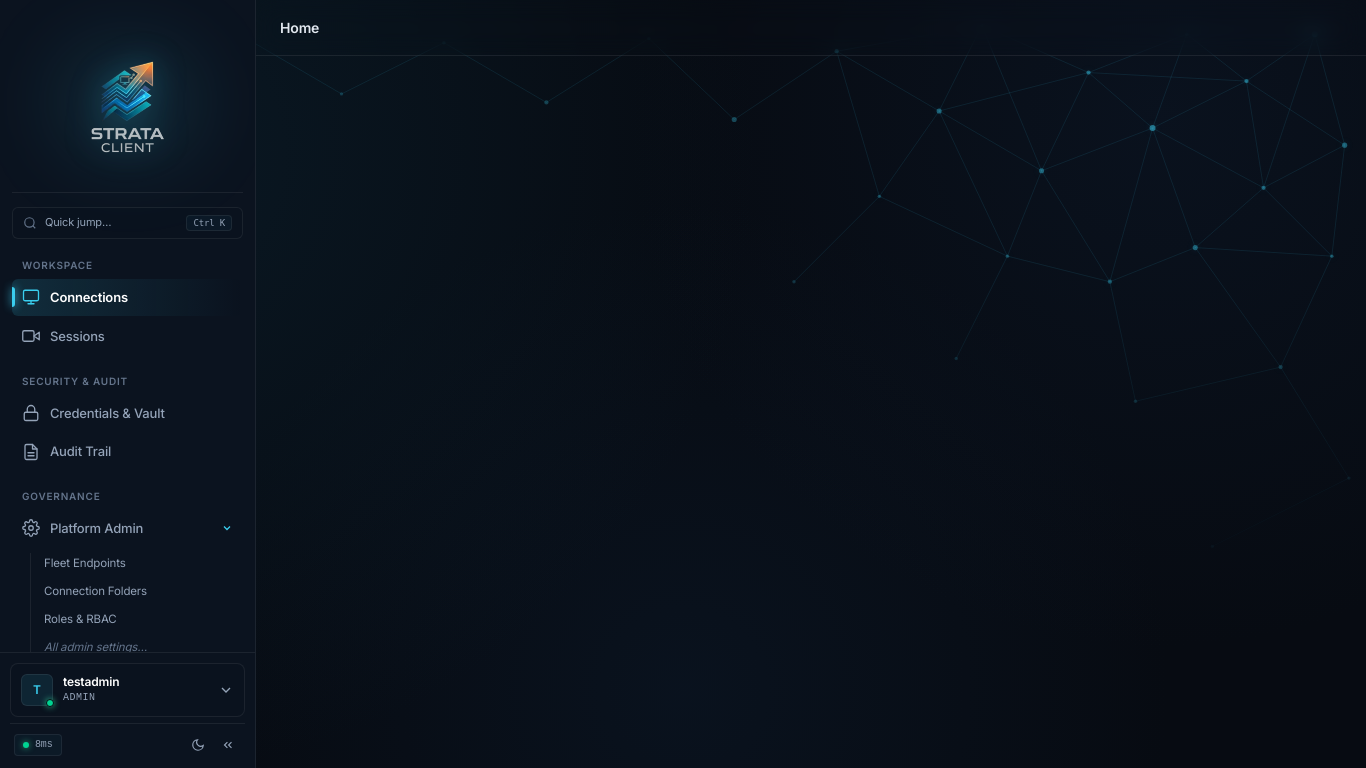
Test: Layout › collapses sidebar when collapse button is clicked
What coordinates should you click on to do the following:
click the button titled "Collapse sidebar"
I would click on:
 (228, 745)
Its box is [215,732,241,758].
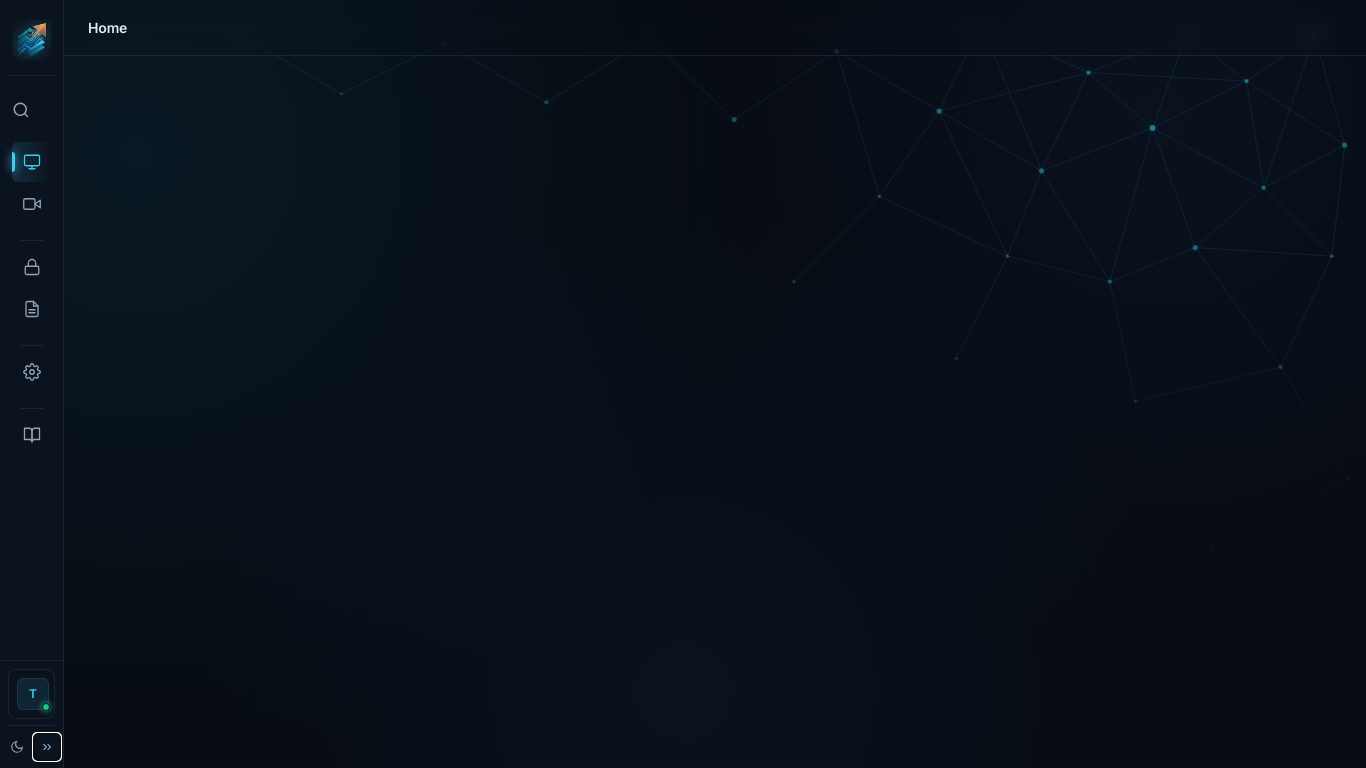
Expected: the button titled "Expand sidebar" is shown, [34,734,60,760]
